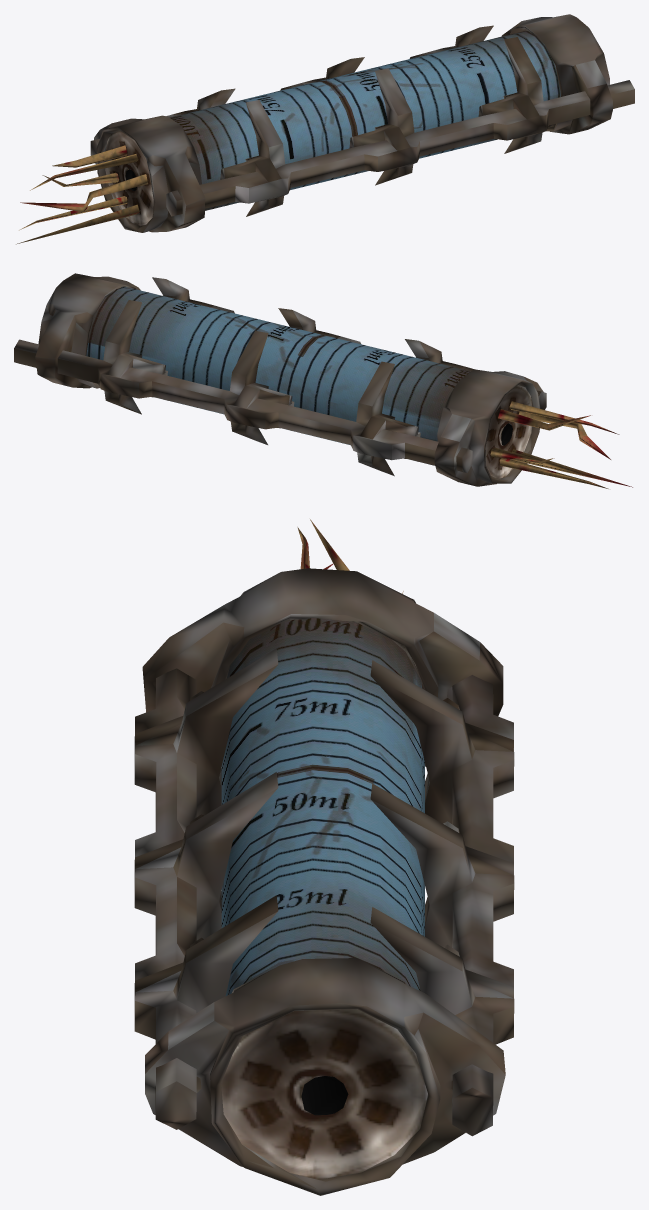
The model's file is adrenalin.obj.
3 views of the same model, one above another, from view 1: azimuth 30°, elevation 25°; view 2: azimuth 150°, elevation 25°; view 3: azimuth 270°, elevation 25° (orthographic). The views are drawn at different scales.
Parts seen in each view (by area): view 1: adrenaline_main_parent; view 2: adrenaline_main_parent; view 3: adrenaline_main_parent.
Boxes of the visible parts, box(x1,y1,x2,y2) form: adrenaline_main_parent: box(16, 14, 634, 244); adrenaline_main_parent: box(14, 273, 632, 488); adrenaline_main_parent: box(134, 519, 514, 1195).
Bounding box in the file's own units: 3.69 × 0.728 × 1.06.
